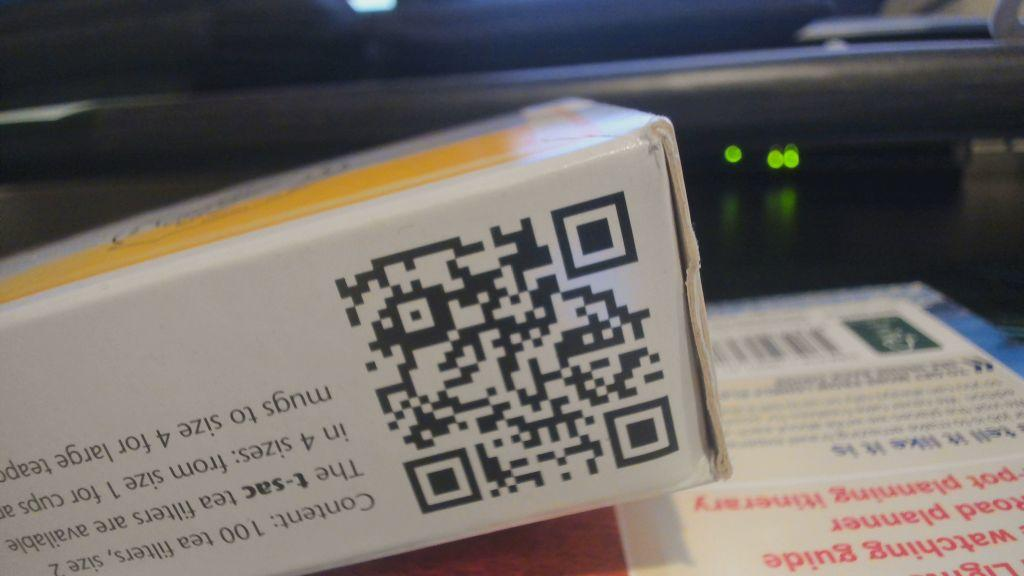QRCode: (322, 177, 688, 526)
